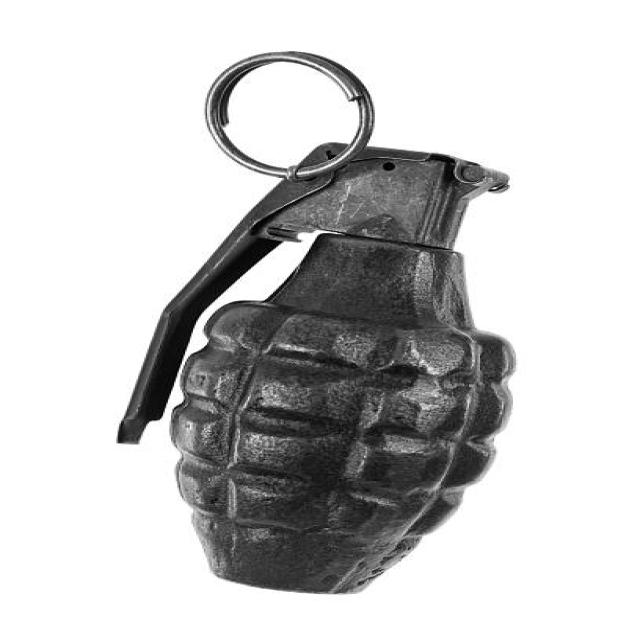grenade: (105, 43, 532, 607)
